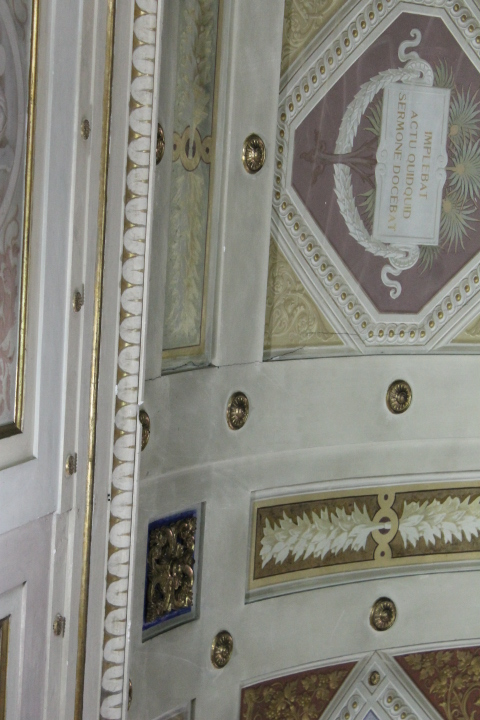Crack: (115, 320, 420, 401)
